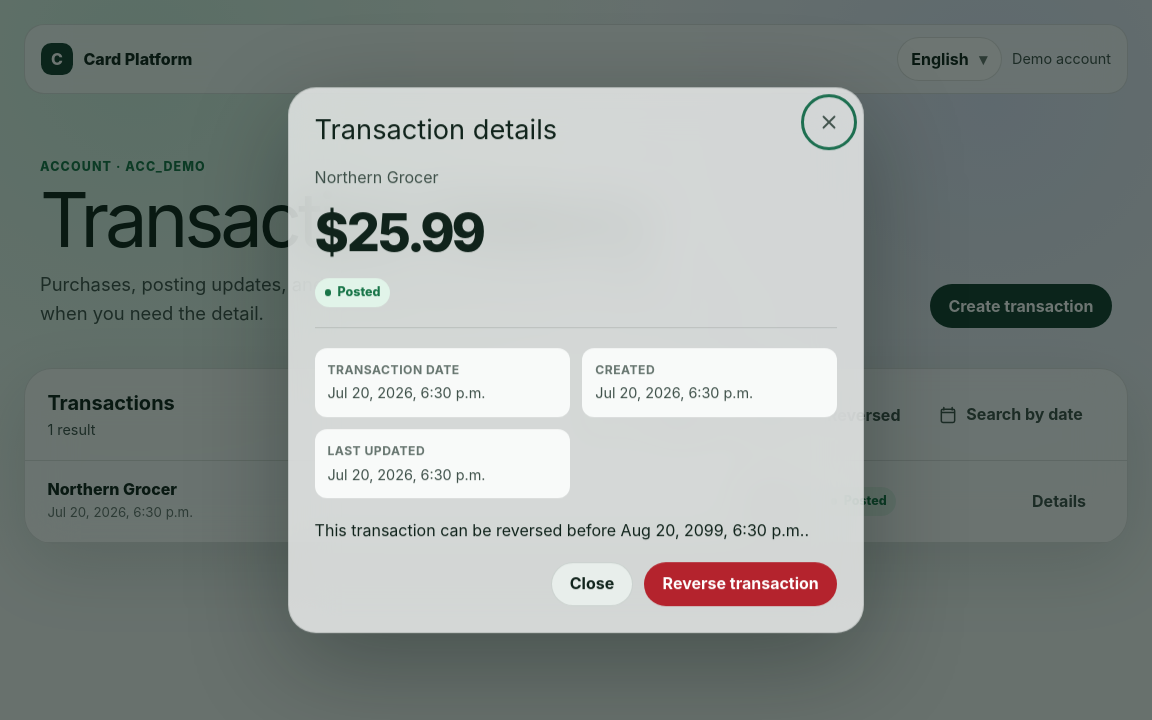
Test: App › removes descendant confirmations when their route-owned Detail unmounts
Step 1. Click the button "Reverse transaction" → (741, 584), box [644,562,837,606]
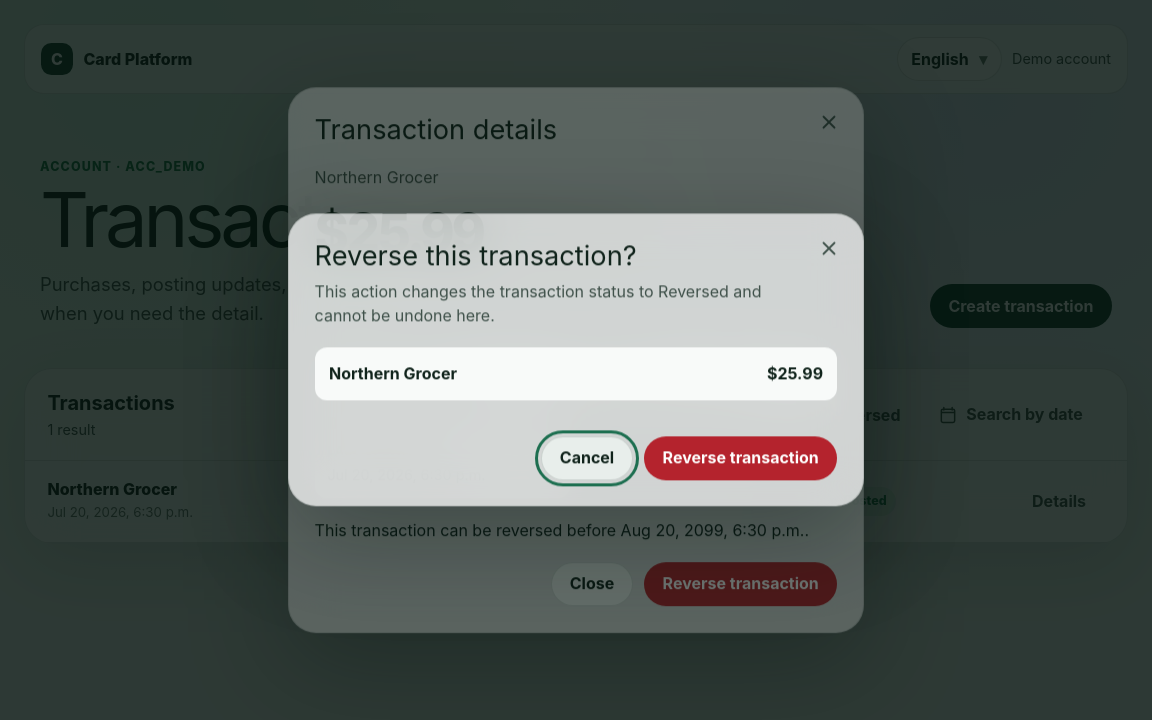
Check: the dialog "Reverse this transaction?" is shown, box [288,213,864,507]
